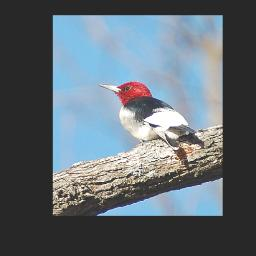Woodpecker: (96, 81, 197, 152)
